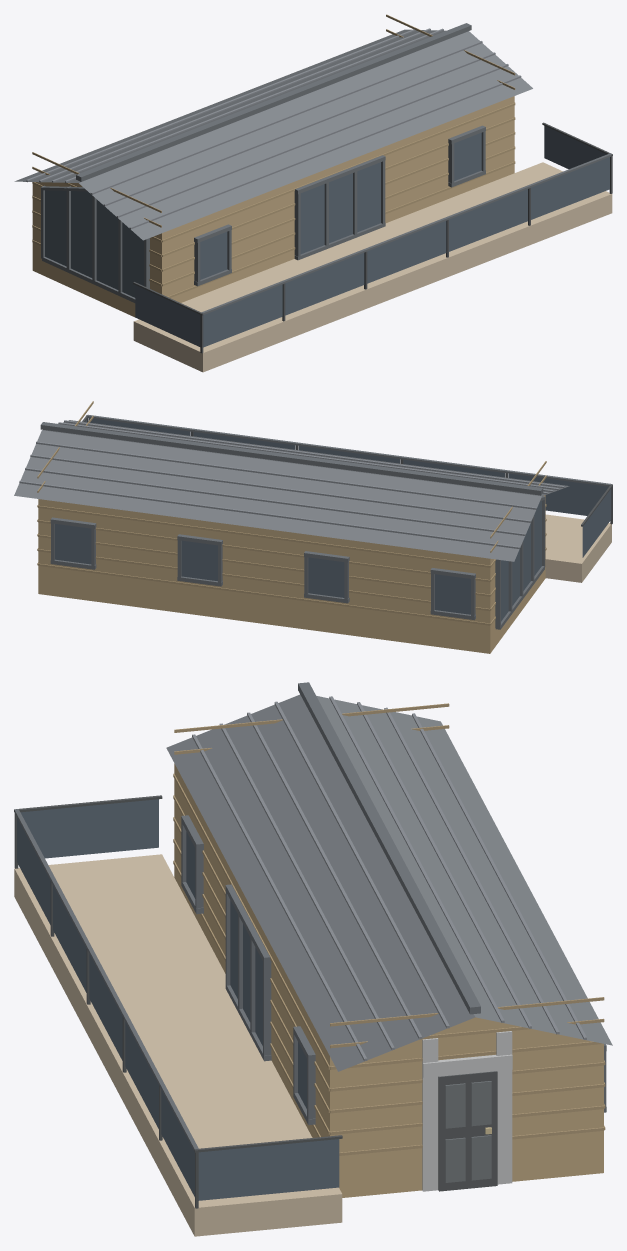
3 views of the same model, one above another, from view 1: azimuth 30°, elevation 25°; view 2: azimuth 150°, elevation 25°; view 3: azimuth 270°, elevation 25° (orthographic). The views are drawn at different scales.
Visible parts, largest first — view 1: slate, door_wood, larch, slate_dk, slate_lt, window_glass_013, door_wood_p, window_glass_001, window_glass_002, window_glass_003, window_glass_004, window_glass_005 (+8 smaller); view 2: door_wood, slate, slate_dk, slate_lt, door_wood_p, larch, window_glass_001, window_glass_013, window_glass_016, window_glass_014, window_glass_015, window_glass_017 (+5 smaller); view 3: slate, larch, door_wood, slate_dk, slate_lt, door_wood_p, window_glass_007, window_glass_006, stone_band, door_dark_p, door_dark, pipe (+5 smaller).
Part boxes in pixels (bbox=[...]): slate: bbox=[14, 29, 532, 240]; door_wood: bbox=[32, 96, 514, 317]; larch: bbox=[133, 162, 612, 372]; slate_dk: bbox=[41, 23, 611, 314]; slate_lt: bbox=[26, 28, 521, 229]; window_glass_013: bbox=[45, 190, 143, 297]; door_wood_p: bbox=[32, 14, 515, 297]; window_glass_001: bbox=[203, 284, 282, 347]; window_glass_002: bbox=[285, 253, 364, 315]; window_glass_003: bbox=[367, 221, 446, 283]; window_glass_004: bbox=[449, 189, 527, 251]; window_glass_005: bbox=[531, 157, 609, 219]; door_wood: bbox=[38, 495, 545, 653]; slate: bbox=[14, 420, 569, 561]; slate_dk: bbox=[40, 414, 611, 629]; slate_lt: bbox=[19, 420, 564, 549]; door_wood_p: bbox=[37, 401, 546, 625]; larch: bbox=[545, 514, 611, 582]; window_glass_001: bbox=[508, 473, 608, 515]; window_glass_013: bbox=[501, 501, 541, 621]; window_glass_016: bbox=[308, 557, 344, 597]; window_glass_014: bbox=[55, 524, 91, 564]; window_glass_015: bbox=[181, 540, 217, 581]; window_glass_017: bbox=[435, 574, 470, 614]; slate: bbox=[166, 694, 612, 1071]; larch: bbox=[14, 854, 342, 1236]; door_wood: bbox=[174, 763, 603, 1197]; slate_dk: bbox=[14, 682, 606, 1151]; slate_lt: bbox=[192, 696, 586, 1061]; door_wood_p: bbox=[173, 703, 605, 1155]; window_glass_007: bbox=[198, 1139, 339, 1200]; window_glass_006: bbox=[20, 799, 158, 858]; stone_band: bbox=[422, 1031, 512, 1191]; door_dark_p: bbox=[445, 1081, 491, 1182]; door_dark: bbox=[438, 1071, 497, 1191]; pipe: bbox=[14, 795, 342, 1208].
Size of the model in its own units: 13.99 by 3.41 by 9.5.
